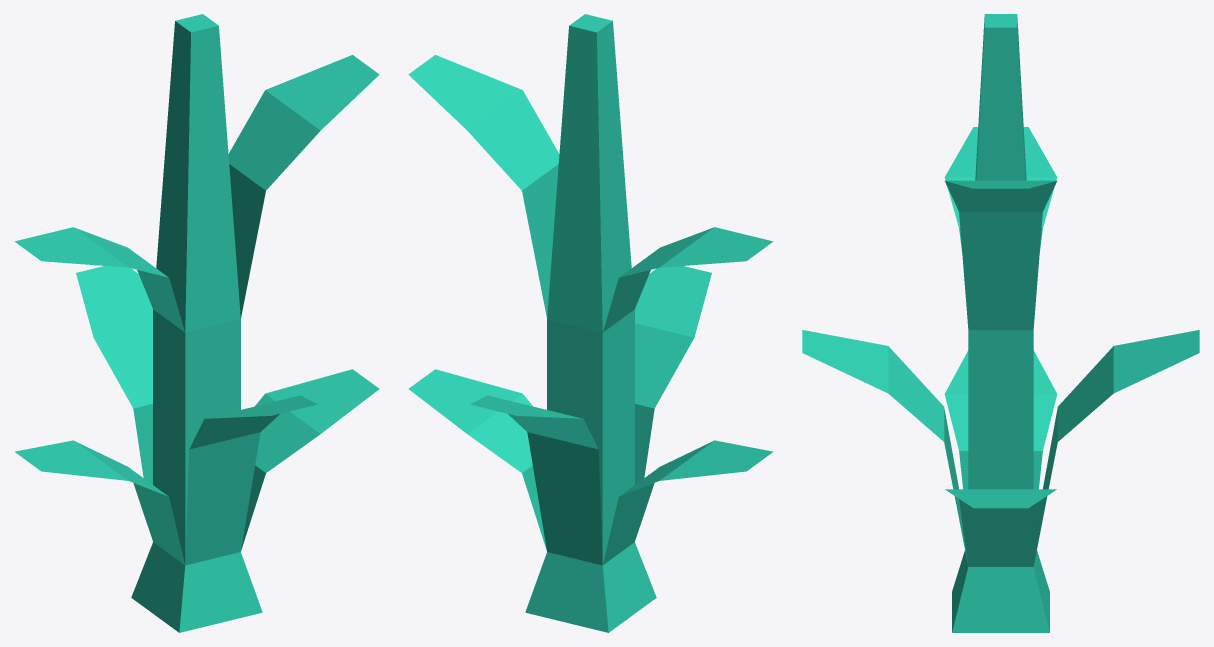
The model's file is crops_cornStageA.fbx.
3 renders of one model, left to right at view 1: azimuth 30°, elevation 25°; view 2: azimuth 150°, elevation 25°; view 3: azimuth 270°, elevation 25°, orthographic.
Visible parts, largest first — view 1: crops_cornStageA; view 2: crops_cornStageA; view 3: crops_cornStageA.
Part boxes in pixels (bbox=[...]): crops_cornStageA: bbox=[14, 14, 379, 632]; crops_cornStageA: bbox=[408, 14, 773, 632]; crops_cornStageA: bbox=[802, 14, 1199, 632].
Size of the model in its own units: 3.04 by 5 by 3.04.
